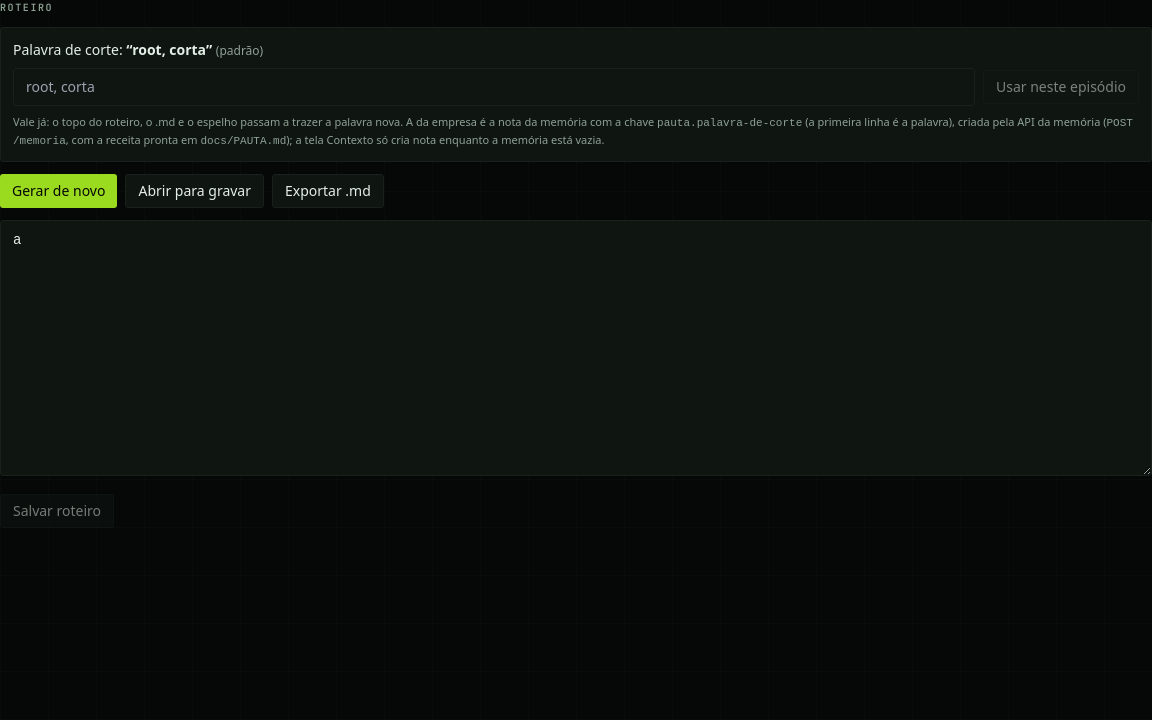
Test: editar, exportar e a palavra do episódio › o espelho que falha não esconde que o roteiro foi salvo
This screenshot has width=1152, height=720.
Type "b" into the text box named "Texto do roteiro".
click(576, 348); type("b")  # box [0, 220, 1151, 476]
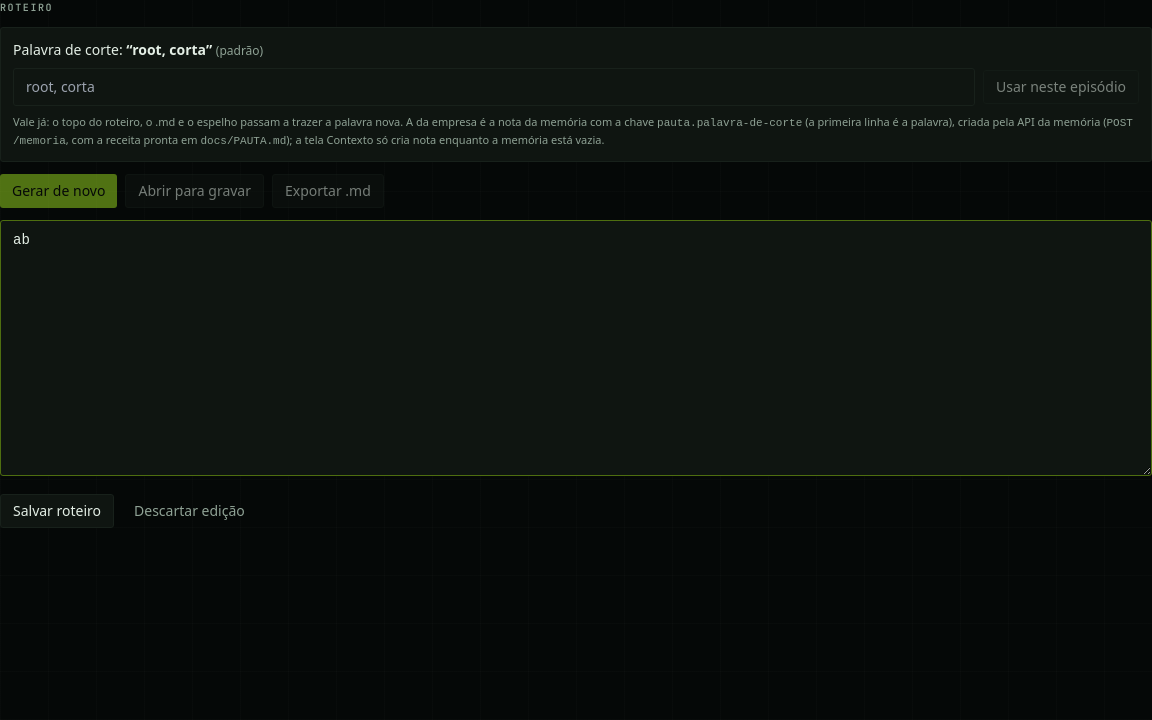
Click the button "Salvar roteiro".
click(57, 511)  # box [0, 494, 114, 528]
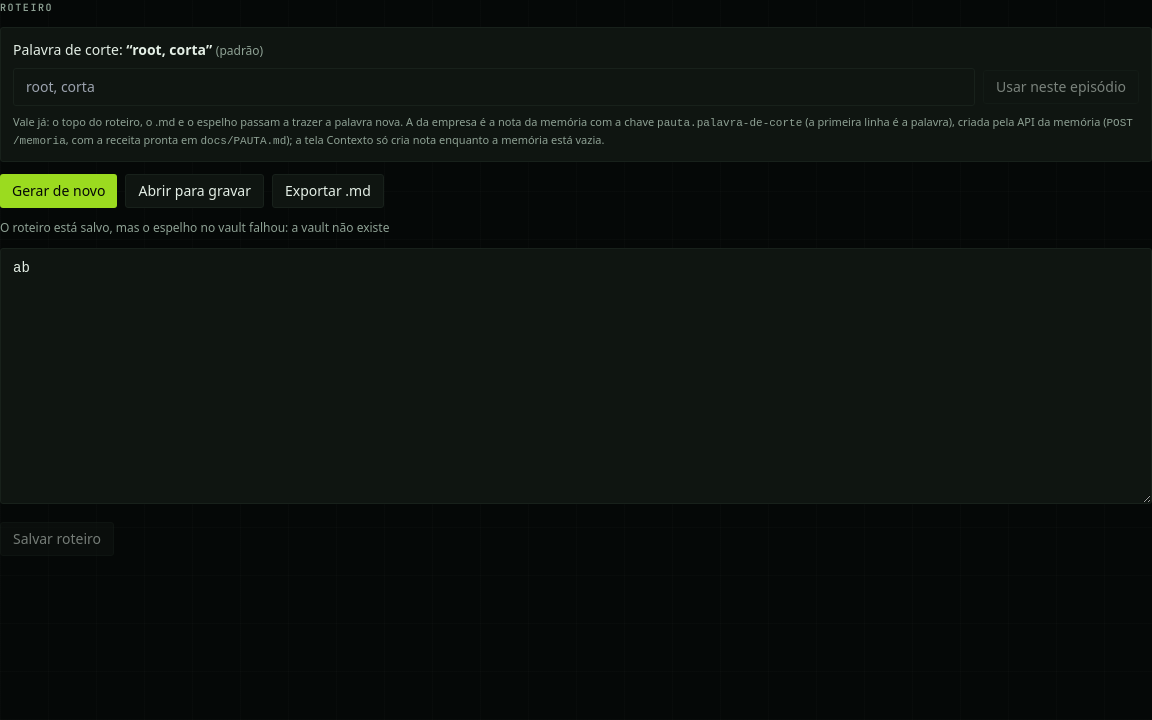
Now the text "O roteiro está salvo, mas o espelho no vault falhou: a vault não existe" is shown, box [0, 219, 390, 236]
